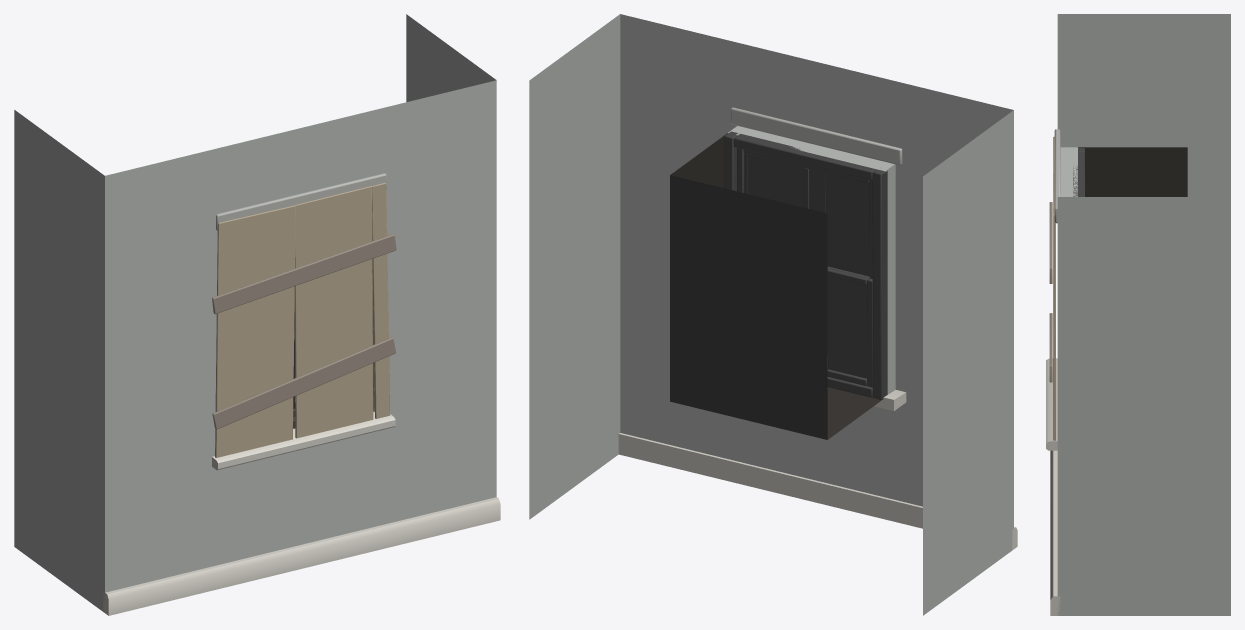
File: upper_3d.glb
The picture shows the model from 3 angles, left to right: view 1: azimuth 30°, elevation 25°; view 2: azimuth 150°, elevation 25°; view 3: azimuth 270°, elevation 25°; orthographic projection. The views are drawn at different scales.
Parts seen in each view (by area): view 1: upper_3d; view 2: upper_3d; view 3: upper_3d.
Boxes of the visible parts, x1,y1,x2,y2 form: upper_3d: [14, 14, 500, 615]; upper_3d: [529, 14, 1017, 615]; upper_3d: [1046, 14, 1230, 615].
Size of the model in its own units: 3 by 3.2 by 1.28.
